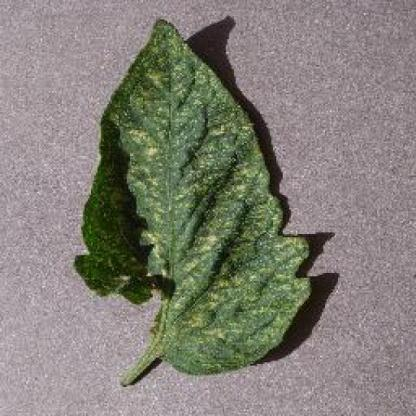Tomato_Spider_Mites: (78, 21, 310, 374)
